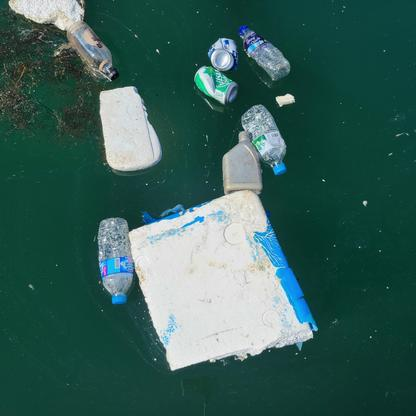can: (193, 66, 237, 103), (208, 36, 238, 70)
foam: (130, 189, 318, 370), (99, 86, 162, 170)
plastic bottle: (96, 218, 133, 305), (242, 104, 287, 174), (70, 21, 118, 79), (241, 25, 290, 81)
